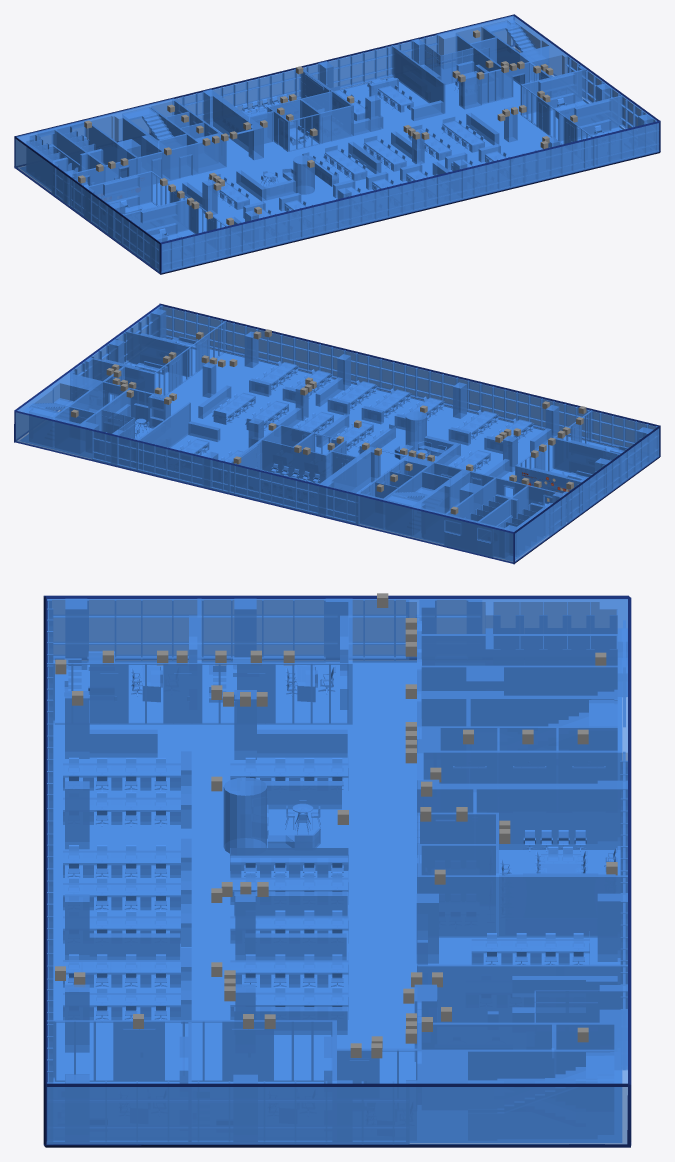
The picture shows the model from 3 angles, top to bottom: view 1: azimuth 30°, elevation 25°; view 2: azimuth 150°, elevation 25°; view 3: azimuth 270°, elevation 25°; orthographic projection. The views are drawn at different scales.
Visible parts, largest first — view 1: qiangti1, Rectangledimian, guangdai1; view 2: qiangti1, Rectangledimian, guangdai1; view 3: qiangti1, Rectangledimian, guangdai1.
Part boxes in pixels (box(x1,y1,x2,y2)): qiangti1: box(15, 15, 659, 273); Rectangledimian: box(20, 47, 623, 237); guangdai1: box(14, 14, 660, 274); qiangti1: box(15, 305, 659, 562); Rectangledimian: box(20, 338, 616, 561); guangdai1: box(14, 303, 660, 564); qiangti1: box(46, 598, 627, 1144); Rectangledimian: box(53, 661, 621, 1142); guangdai1: box(43, 595, 631, 1147).
Size of the model in its own units: 51.92 by 26.38 by 3.47.
Materials: 5 (1 with a texture image).
